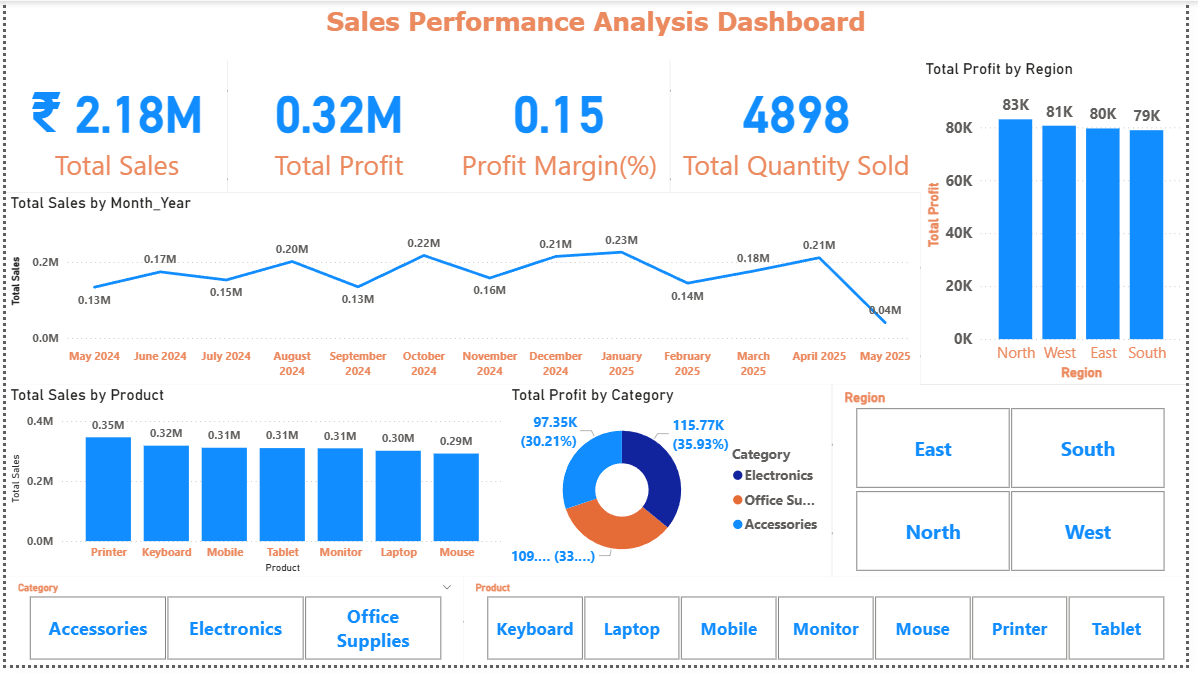

This screenshot's page, from the dashboard's own definition file:
{"tool":"powerbi","page":{"name":"Page 1","canvas":[1280,720],"ordinal":0},"visuals":[{"type":"textbox","box":[0,0,1280,64],"z":0},{"type":"card","fields":{"Values":["Sheet1.Total Sales"]},"box":[0,64,240,144],"z":1000},{"type":"card","fields":{"Values":["Sheet1.Total Profit"]},"box":[240,64,240,144],"z":2000},{"type":"card","fields":{"Values":["Sheet1.Profit Margin(%)"]},"box":[480,64,240,144],"z":3000},{"type":"card","fields":{"Values":["Sheet1.Total Quantity"]},"box":[720,64,272,144],"z":4000},{"type":"lineChart","fields":{"Category":["Sheet1.Month_Year"],"Y":["Sheet1.Total Sales"]},"box":[0,208,992,208],"z":5000},{"type":"columnChart","fields":{"Category":["Sheet1.Region"],"Y":["Sheet1.Total Profit"]},"box":[992,64,288,352],"z":6000},{"type":"columnChart","fields":{"Category":["Sheet1.Product"],"Y":["Sheet1.Total Sales"]},"box":[0,416,544,208],"z":7000},{"type":"donutChart","fields":{"Category":["Sheet1.Category"],"Y":["Sheet1.Total Profit"]},"box":[544,416,352,208],"z":8000},{"type":"slicer","fields":{"Values":["Sheet1.Region"]},"box":[896,416,384,208],"z":9000},{"type":"slicer","fields":{"Values":["Sheet1.Category"]},"box":[0,624,496,96],"z":10000},{"type":"slicer","fields":{"Values":["Sheet1.Product"]},"box":[496,624,784,96],"z":11000}]}

Visuals, with their boxes in screenshot pixels (x1, y1, x2, y2), scaled from the page's 1280x720 canvas onto the 1198x673 screenshot:
textbox: [0,0,1197,60]
card - Sheet1.Total Sales: [0,60,225,194]
card - Sheet1.Total Profit: [225,60,449,194]
card - Sheet1.Profit Margin(%): [449,60,674,194]
card - Sheet1.Total Quantity: [674,60,928,194]
lineChart - Sheet1.Month_Year x Sheet1.Total Sales: [0,194,928,389]
columnChart - Sheet1.Region x Sheet1.Total Profit: [928,60,1197,389]
columnChart - Sheet1.Product x Sheet1.Total Sales: [0,389,509,583]
donutChart - Sheet1.Category x Sheet1.Total Profit: [509,389,839,583]
slicer - Sheet1.Region: [839,389,1197,583]
slicer - Sheet1.Category: [0,583,464,672]
slicer - Sheet1.Product: [464,583,1197,672]
